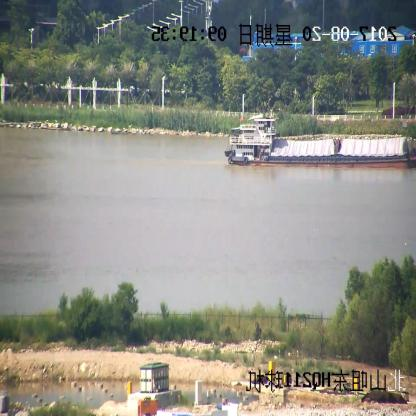Bulk Carrier: (226, 114, 416, 171)
